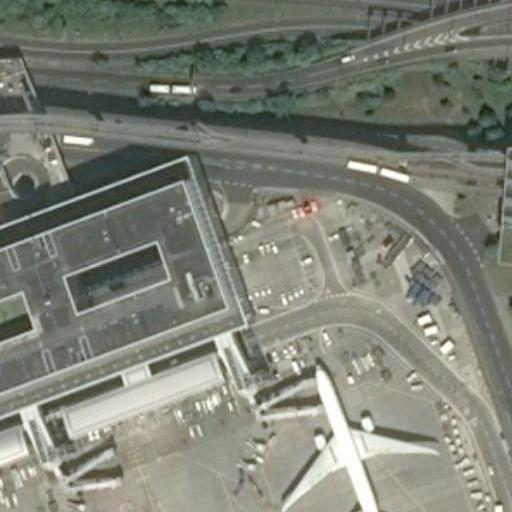Aircraft: (274, 357, 441, 512)
